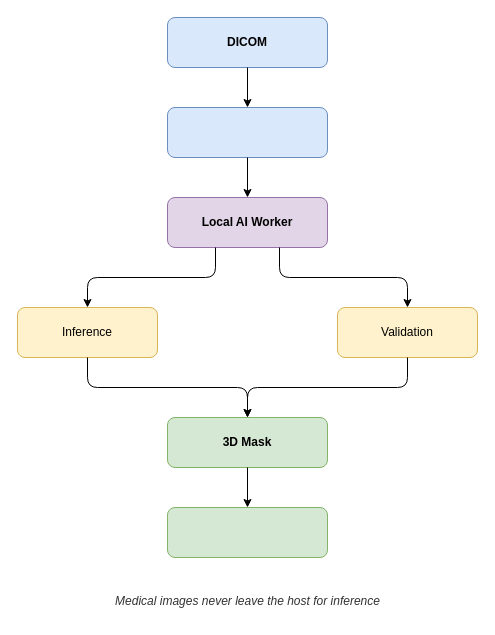
Image size: 495x635. Some labels were removed from this diagram. Each missing label, with the centre of its shape:
"AETHERIS Viewer" goes at (247,132).
"Viewer Visualization" goes at (247,532).
